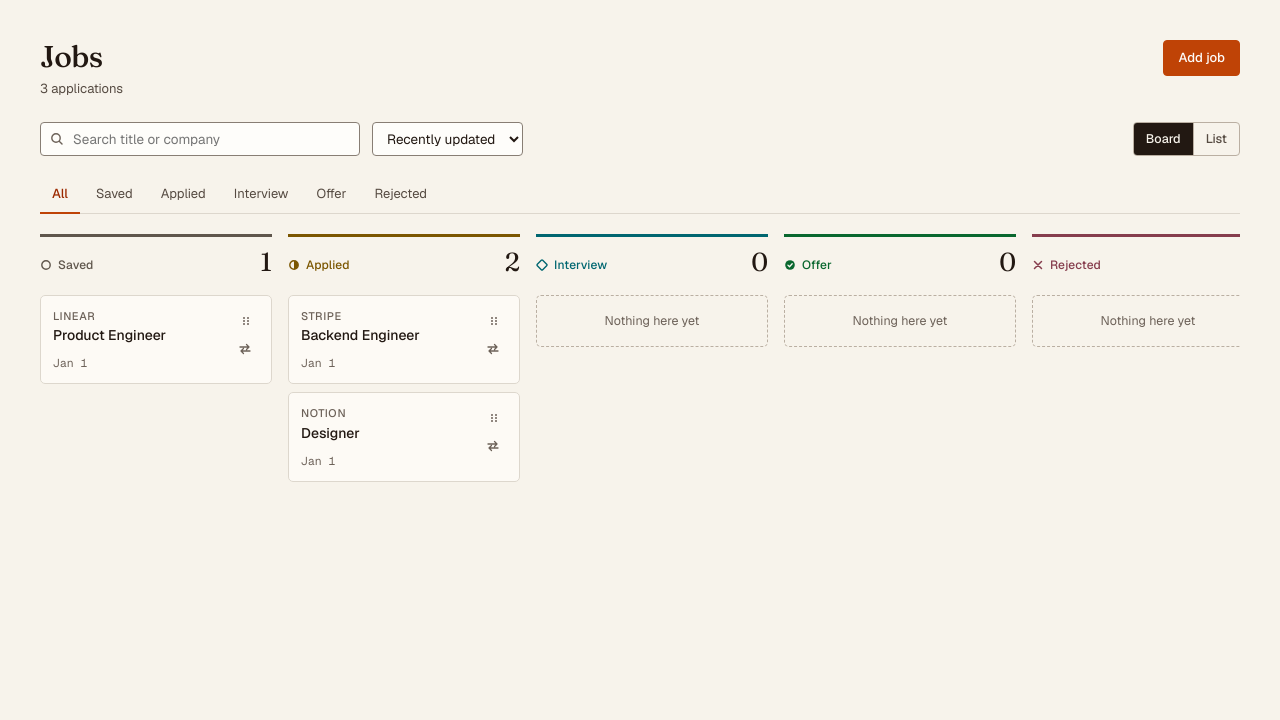
Test: DashboardPage › puts the job back and offers a retry when the change fails
This screenshot has width=1280, height=720.
Expected: the text "Product Engineer" is shown, 53,326 -> 166,344
Click the button named "product engineer at linear: status saved".
click(246, 348)  # box 233,336 -> 259,362
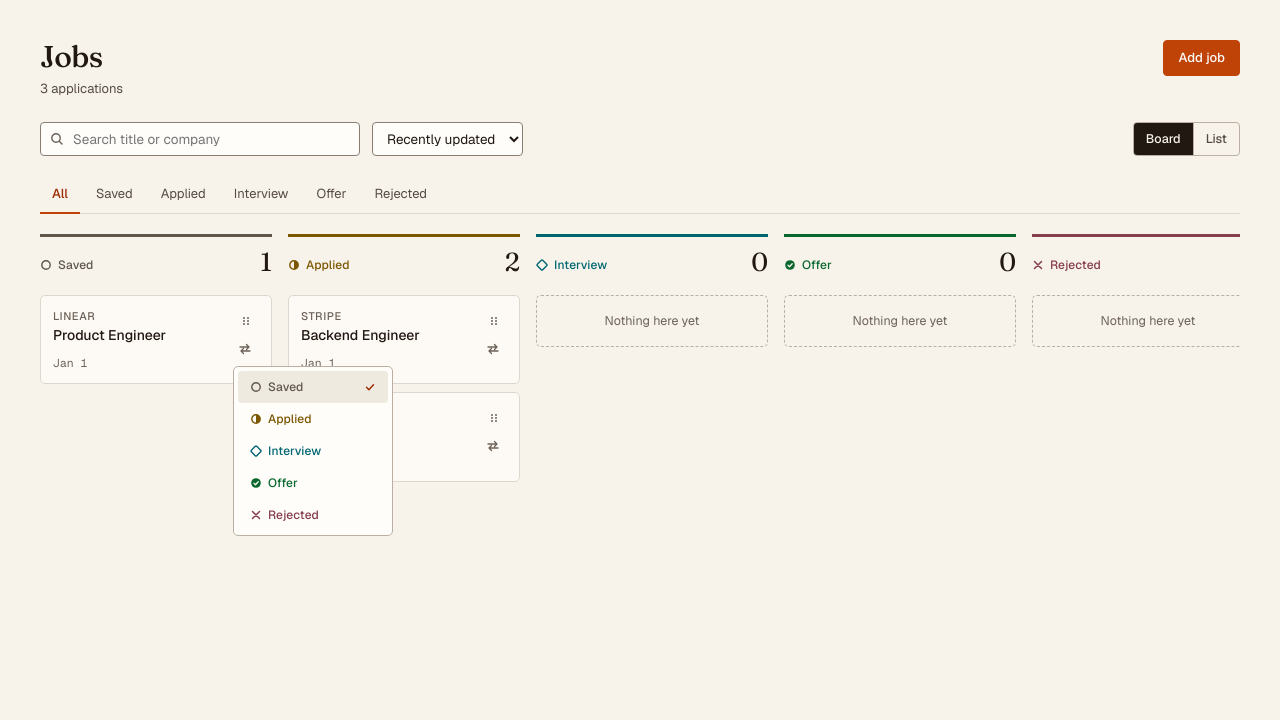
Click the menu item "Offer".
click(313, 482)  # box 238,466 -> 388,498
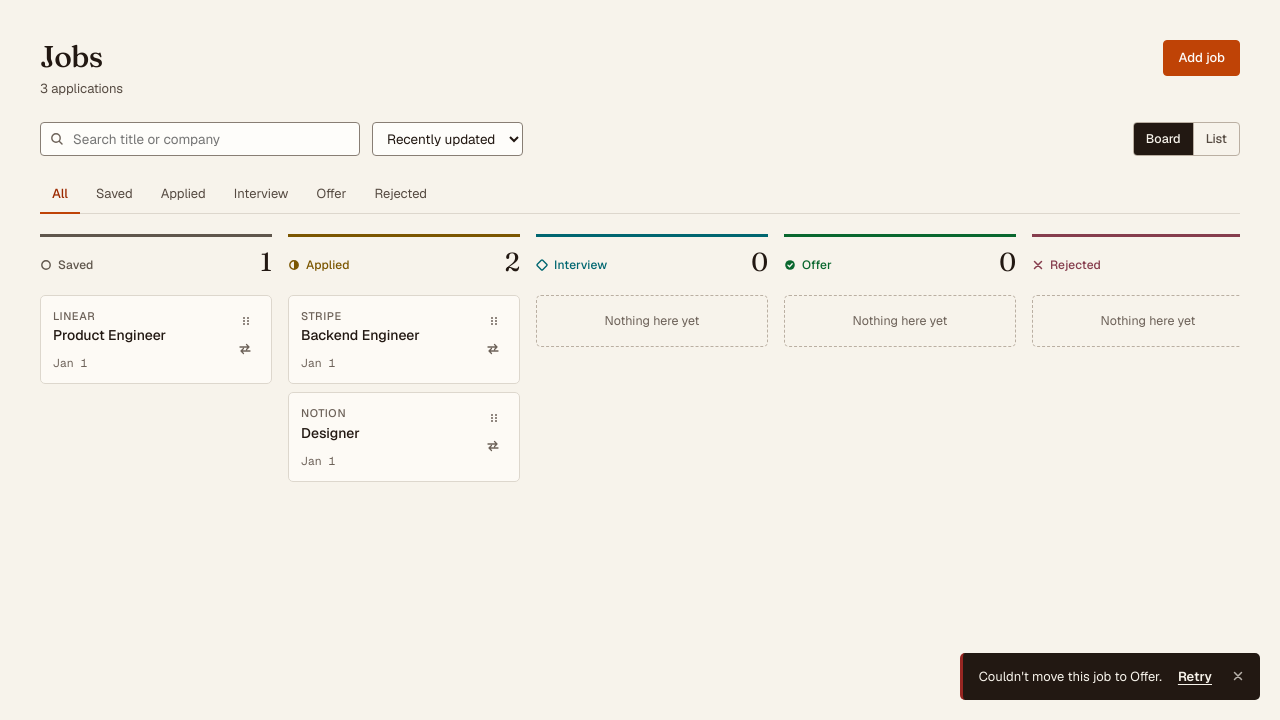
Expected: the text "Product Engineer" is shown, 53,326 -> 166,344
Expected: the button "Retry" is shown, 1174,664 -> 1216,688
